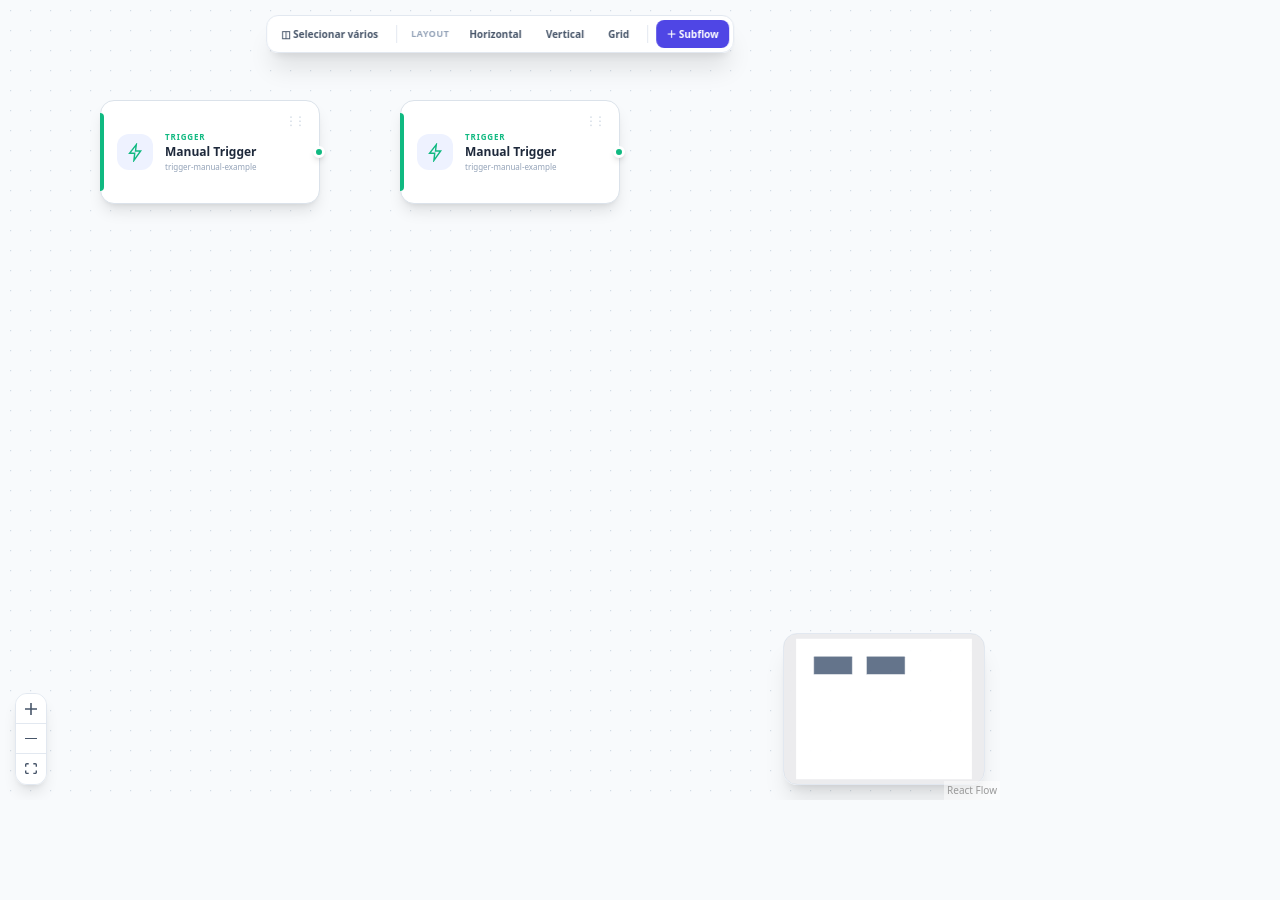
Scenario: Canvas with REAL React Flow › keeps a multi-selection when right-clicking one of its nodes
The width and height of the screenshot is (1280, 900).
Click the 1st element with class "react-flow__node".
click(210, 152)  # box [100,100,320,204]
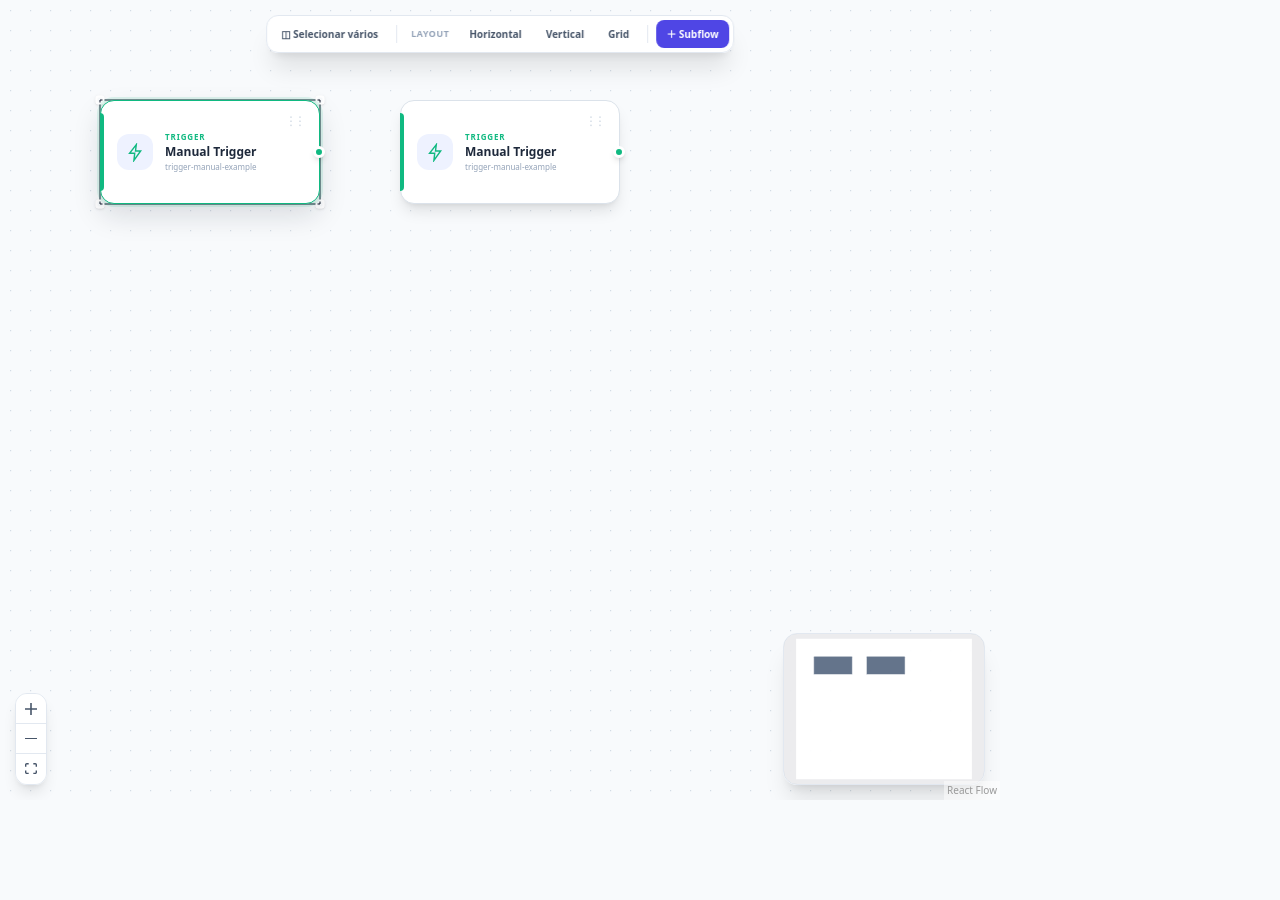
Press Control
Click the 2nd element with class "react-flow__node".
click(510, 152)  # box [400,100,620,204]
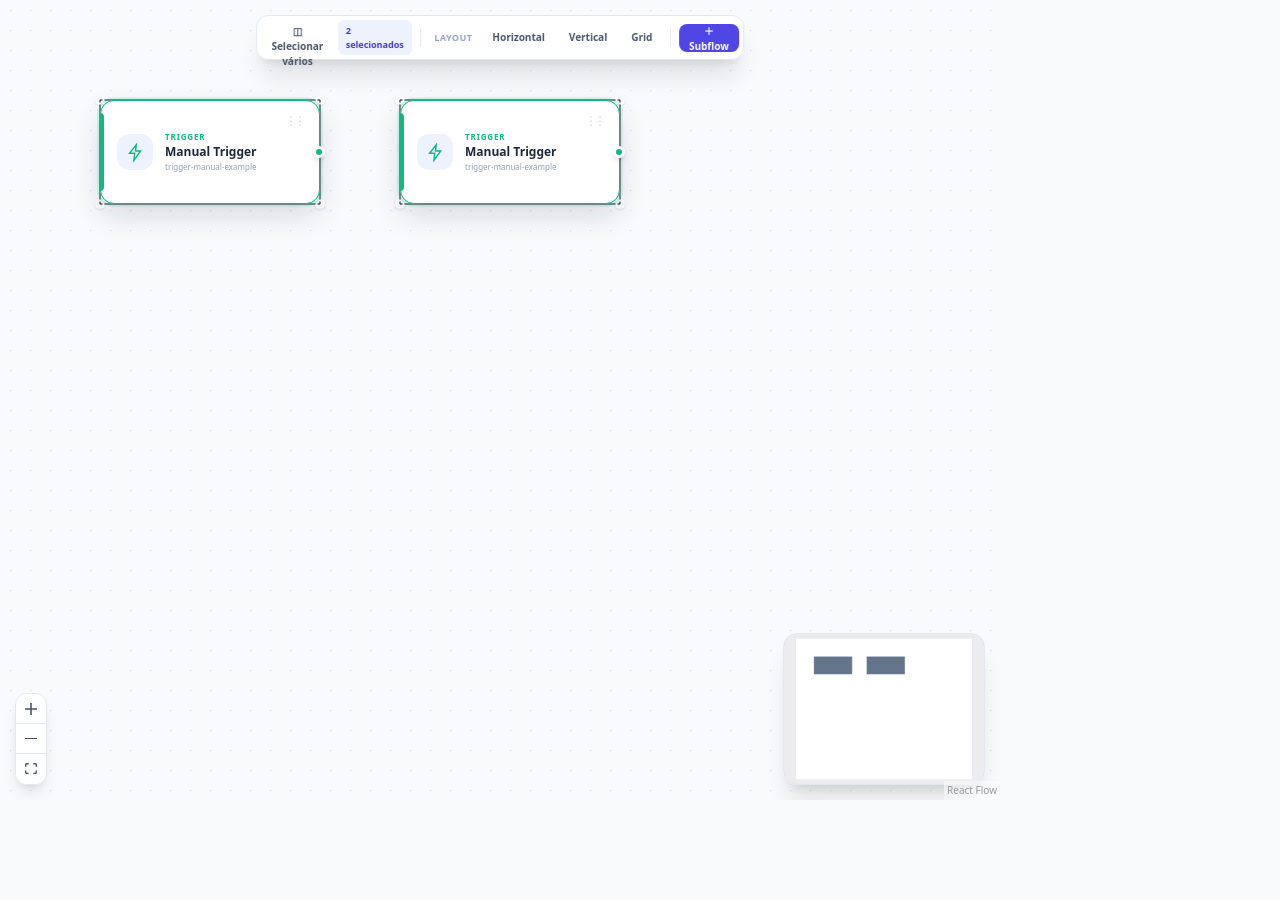
Press Control
Now the text with test id "multi-selection-count" reads "2 selecionados", box [338,20,412,55]
Right-click the 1st element with class "react-flow__node".
right_click(210, 152)  # box [100,100,320,204]
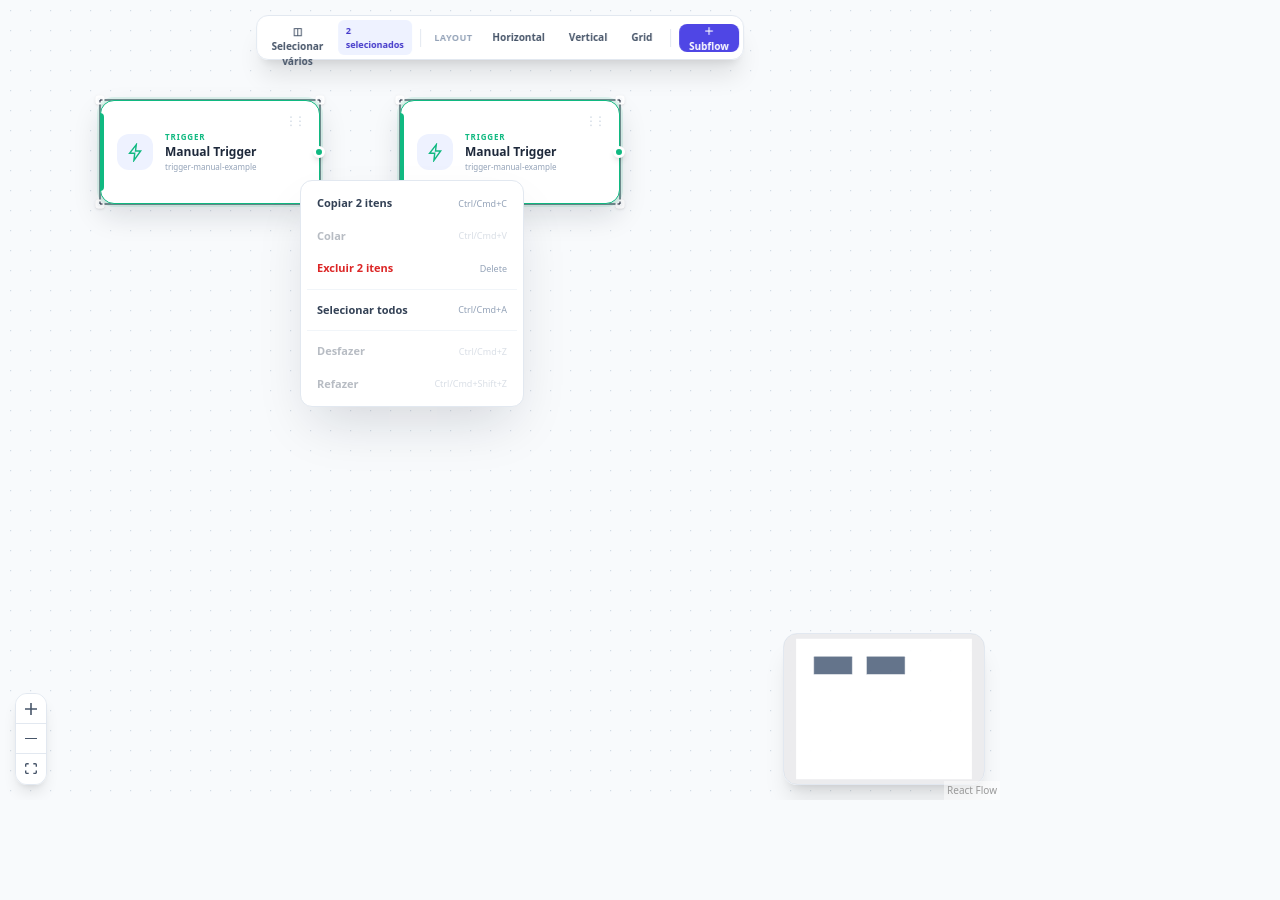
Now the menu item "Copiar 2 itens Ctrl/Cmd+C" is shown, box [307,187,517,220]
Now the menu item "Excluir 2 itens Delete" is shown, box [307,252,517,284]
